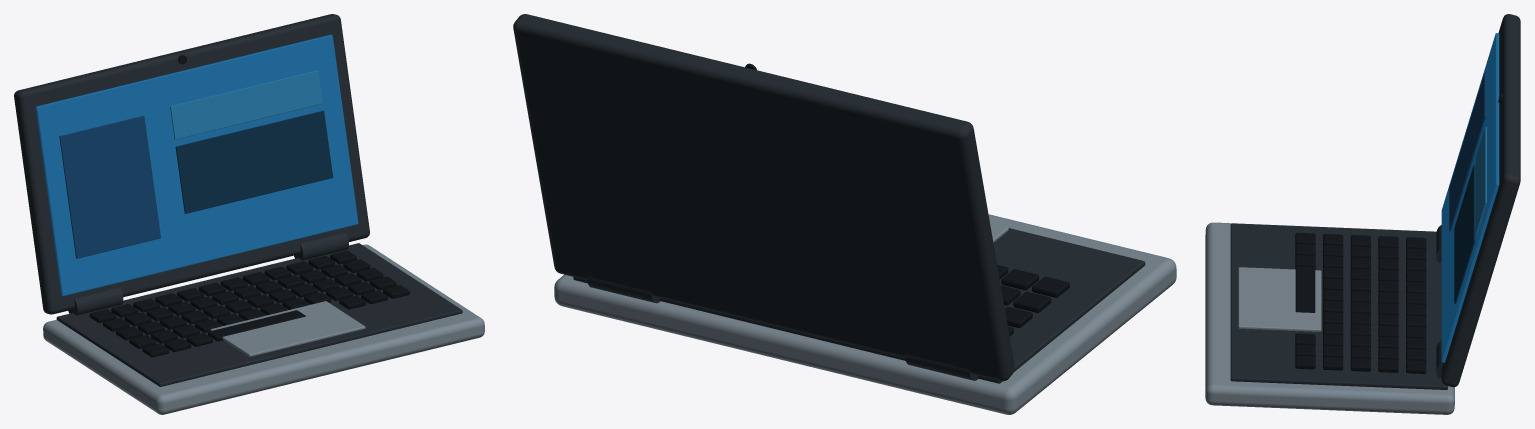
File: chromebook.glb
3 renders of one model, left to right at view 1: azimuth 30°, elevation 25°; view 2: azimuth 150°, elevation 25°; view 3: azimuth 270°, elevation 25°, orthographic. The views are drawn at different scales.
Parts seen in each view (by area): view 1: Premium Chromebook, Display glass, Aluminium keyboard deck, Glass trackpad, Hinge (×2); view 2: Premium Chromebook, Aluminium keyboard deck, Hinge (×2); view 3: Premium Chromebook, Aluminium keyboard deck, Display glass, Glass trackpad.
Boxes of the visible parts, x1=… form: Premium Chromebook: x1=14, y1=14, x2=462, y2=386; Display glass: x1=35, y1=34, x2=358, y2=296; Aluminium keyboard deck: x1=43, y1=244, x2=484, y2=414; Glass trackpad: x1=210, y1=301, x2=365, y2=356; Hinge (×2): x1=68, y1=232, x2=348, y2=315; Premium Chromebook: x1=513, y1=14, x2=1145, y2=383; Aluminium keyboard deck: x1=554, y1=214, x2=1176, y2=414; Hinge (×2): x1=587, y1=276, x2=978, y2=380; Premium Chromebook: x1=1230, y1=14, x2=1520, y2=389; Aluminium keyboard deck: x1=1205, y1=222, x2=1454, y2=414; Display glass: x1=1441, y1=33, x2=1499, y2=362; Glass trackpad: x1=1238, y1=267, x2=1321, y2=331.
Bounding box in the file's own units: 1.86 × 1.24 × 1.48.
